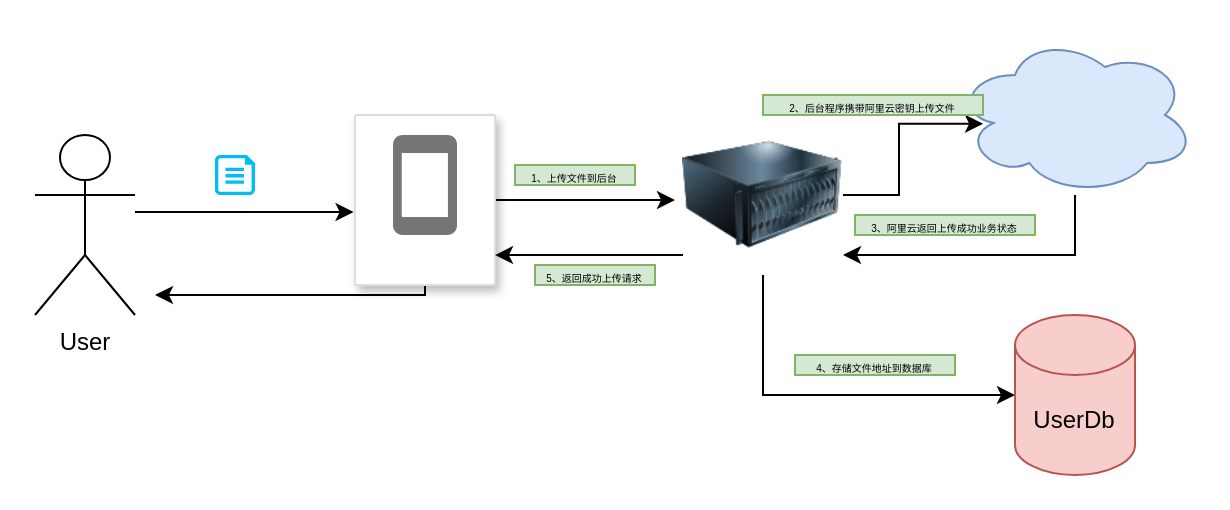
The diagram is 1230 pixels wide and 510 high, and some of its shapes have lost their labels. Here are the shapes that lost their labels. From the top down, the centre of each, then its label:
the point at 1074,114: 阿里云OSS
the point at 426,202: Phone
